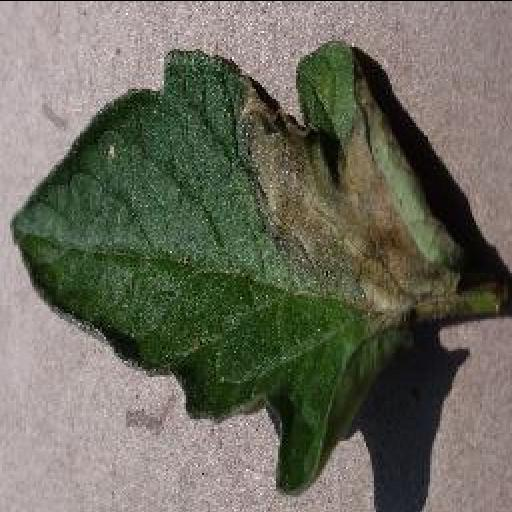disease_tomato: (10, 40, 512, 498)
